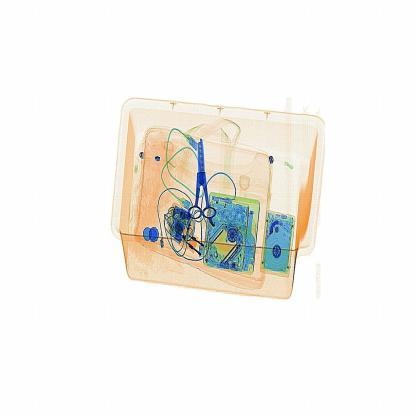gun: (185, 129, 227, 229)
